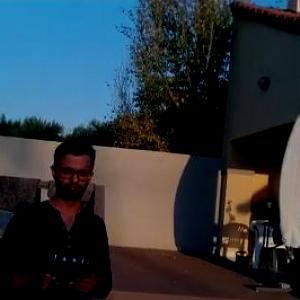follow: (0, 127, 118, 299)
